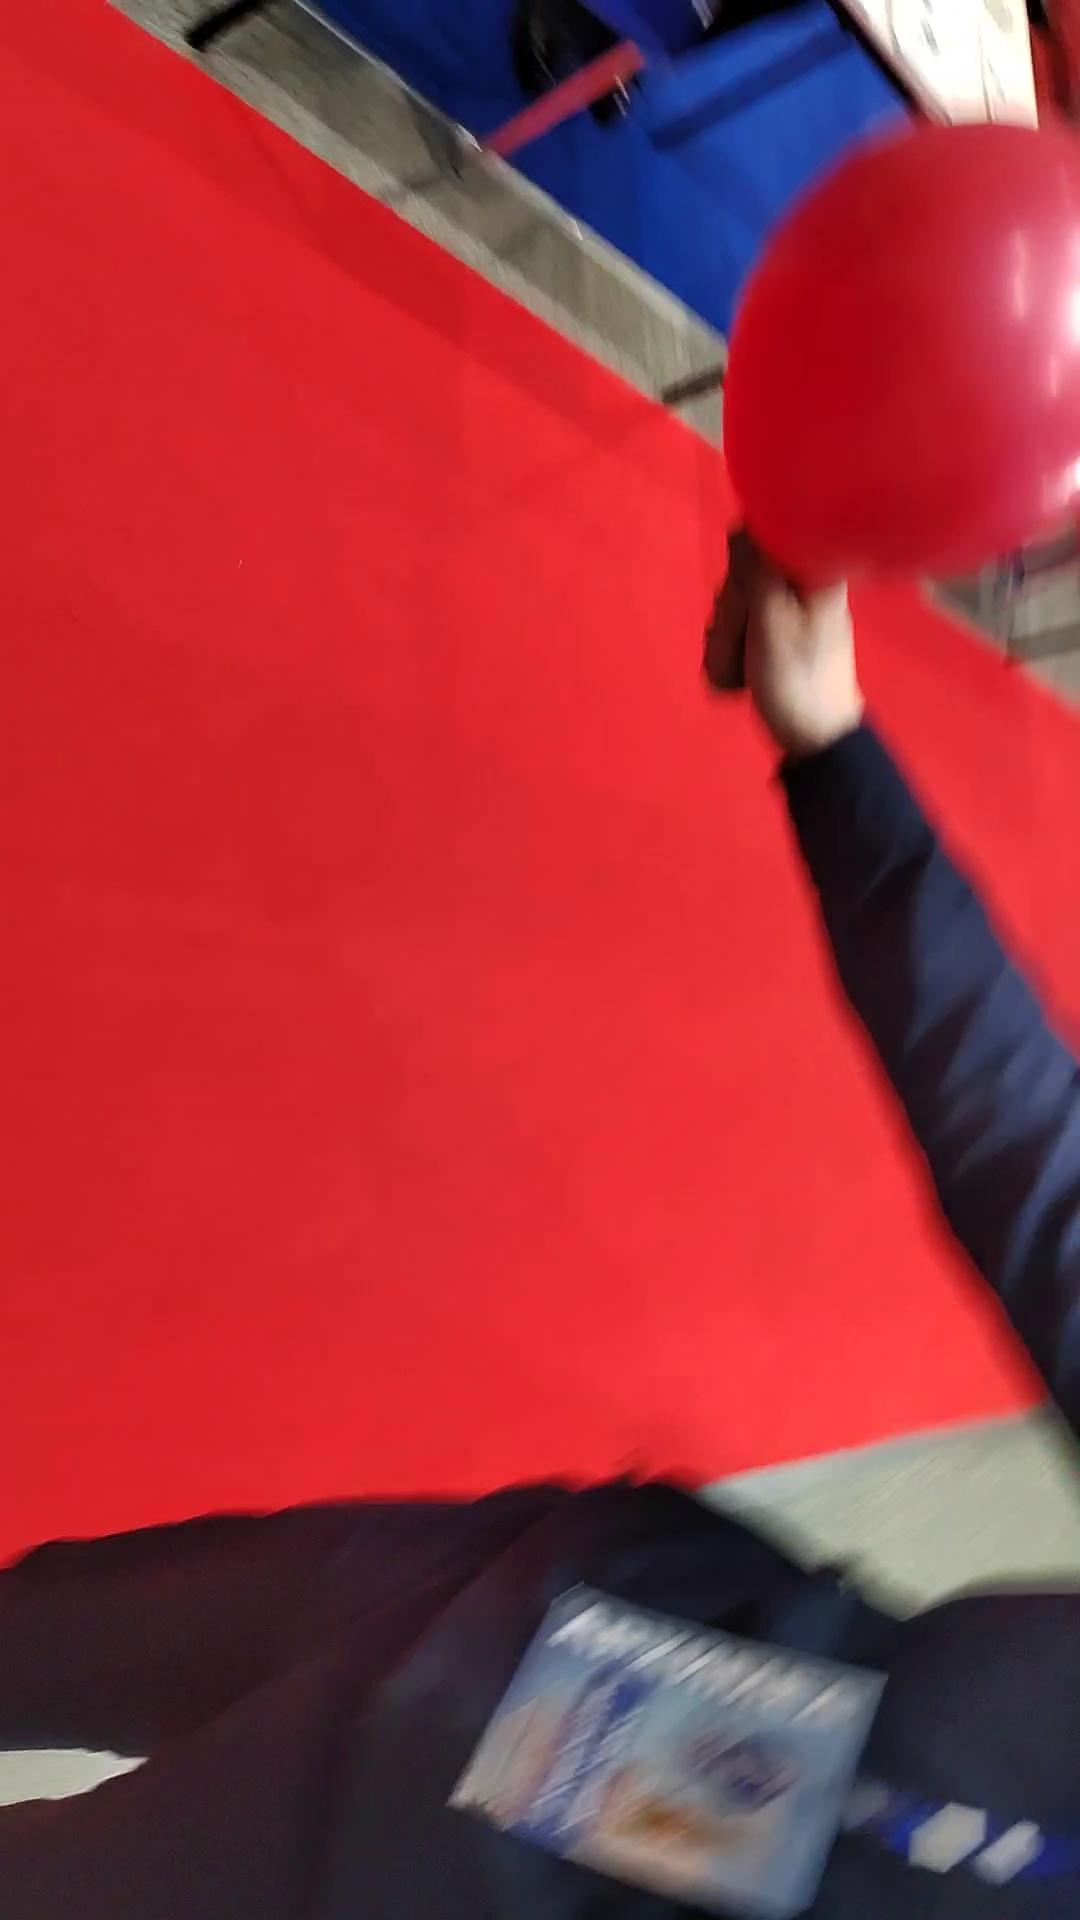red: (696, 103, 1080, 580)
